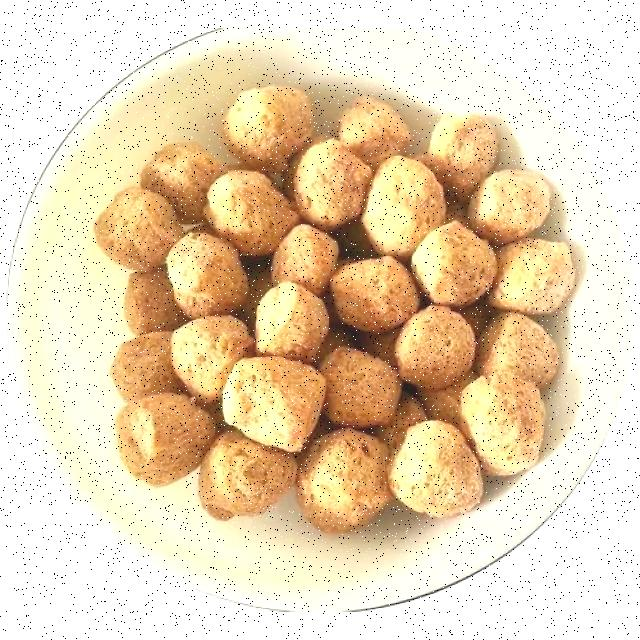Soy Chunks: (168, 183, 498, 520)
